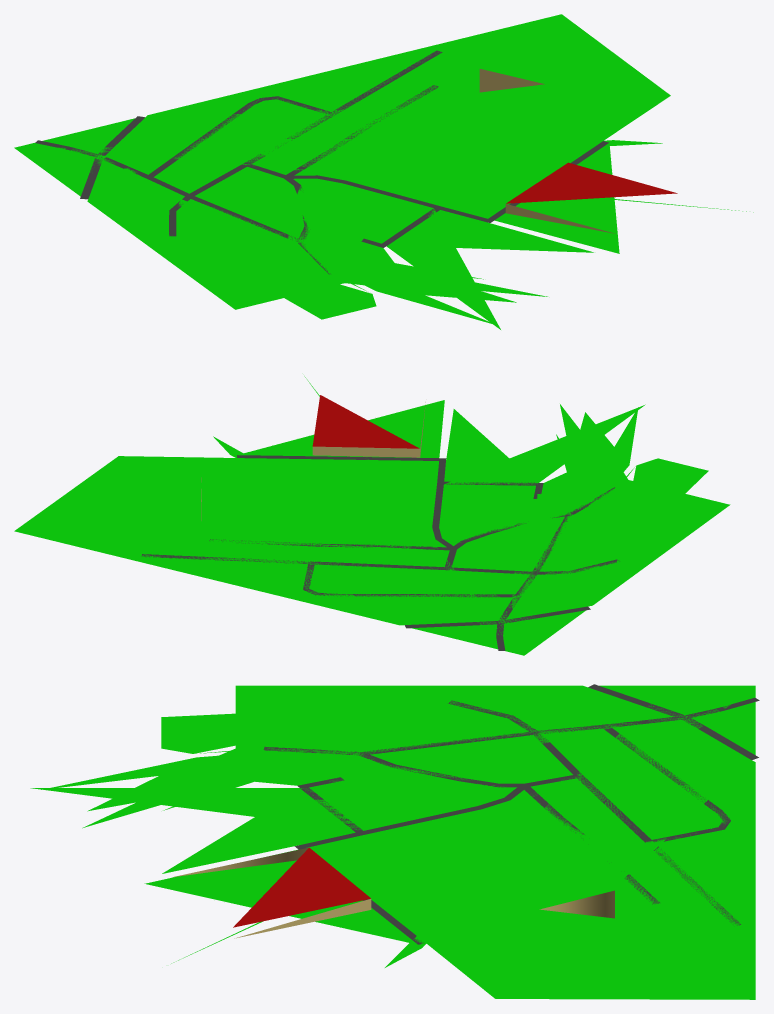
3 renders of one model, top to bottom at view 1: azimuth 30°, elevation 25°; view 2: azimuth 150°, elevation 25°; view 3: azimuth 270°, elevation 25°, orthographic. The views are drawn at different scales.
Bounding box in the file's own units: 302 × 12.5 × 301.
